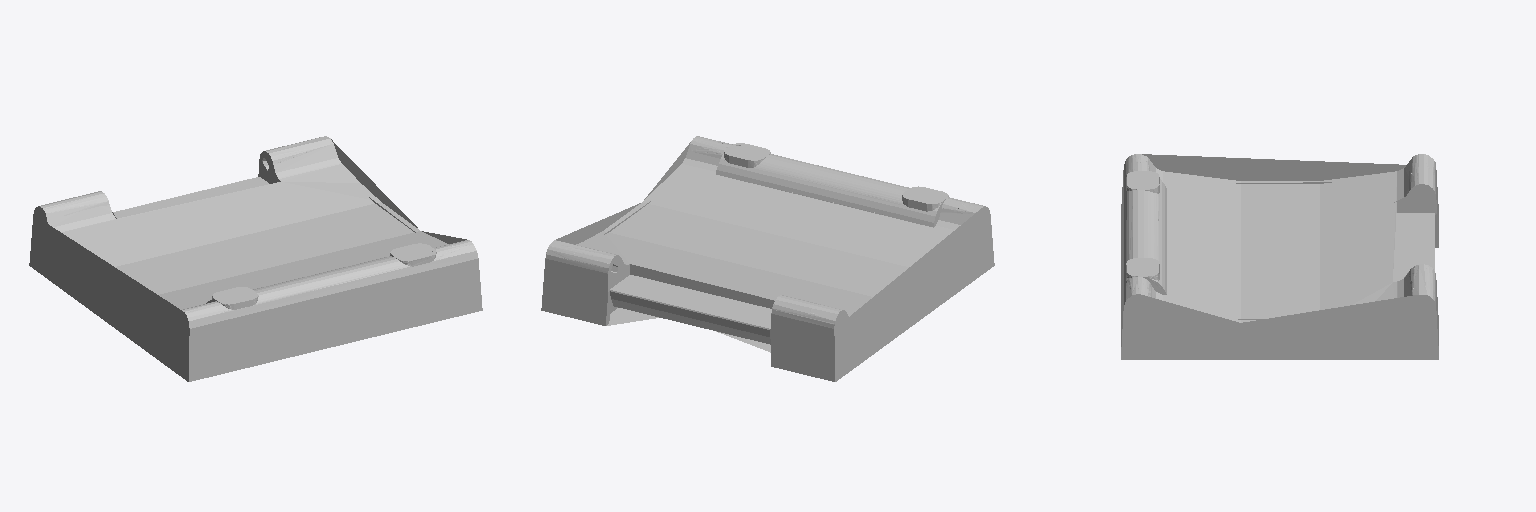
The picture shows the model from 3 angles: view 1: azimuth 30°, elevation 25°; view 2: azimuth 150°, elevation 25°; view 3: azimuth 270°, elevation 25°; orthographic projection.
Parts seen in each view (by area): view 1: 5418-Sr; view 2: 5418-Sr; view 3: 5418-Sr.
Part boxes in pixels (x1,y1,x2,y2): 5418-Sr: (29, 136, 482, 381); 5418-Sr: (541, 136, 994, 381); 5418-Sr: (1121, 154, 1438, 359).
Bounding box in the file's own units: 1.39 × 0.2906 × 1.3.